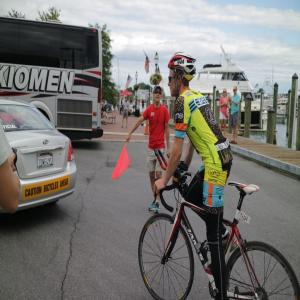Vehicle-registration-plate: (38, 151, 54, 168)
